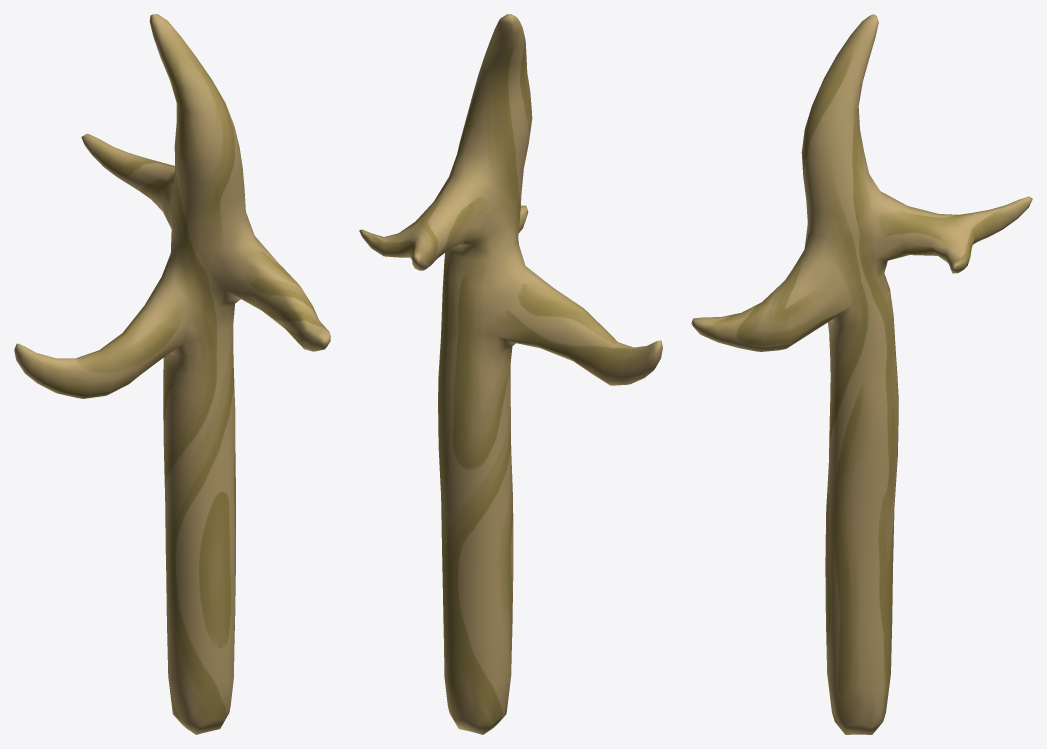
Rendered from FruitTree1.fbx.
3 renders of one model, left to right at view 1: azimuth 30°, elevation 25°; view 2: azimuth 150°, elevation 25°; view 3: azimuth 270°, elevation 25°, orthographic. The views are drawn at different scales.
Visible parts, largest first — view 1: FruitTree1; view 2: FruitTree1; view 3: FruitTree1.
Boxes of the visible parts, x1=… form: FruitTree1: x1=14, y1=14, x2=330, y2=734; FruitTree1: x1=359, y1=14, x2=662, y2=734; FruitTree1: x1=691, y1=14, x2=1032, y2=734.
Bounding box in the file's own units: 473 × 1295 × 575.
Materials: 1 (1 with a texture image).
